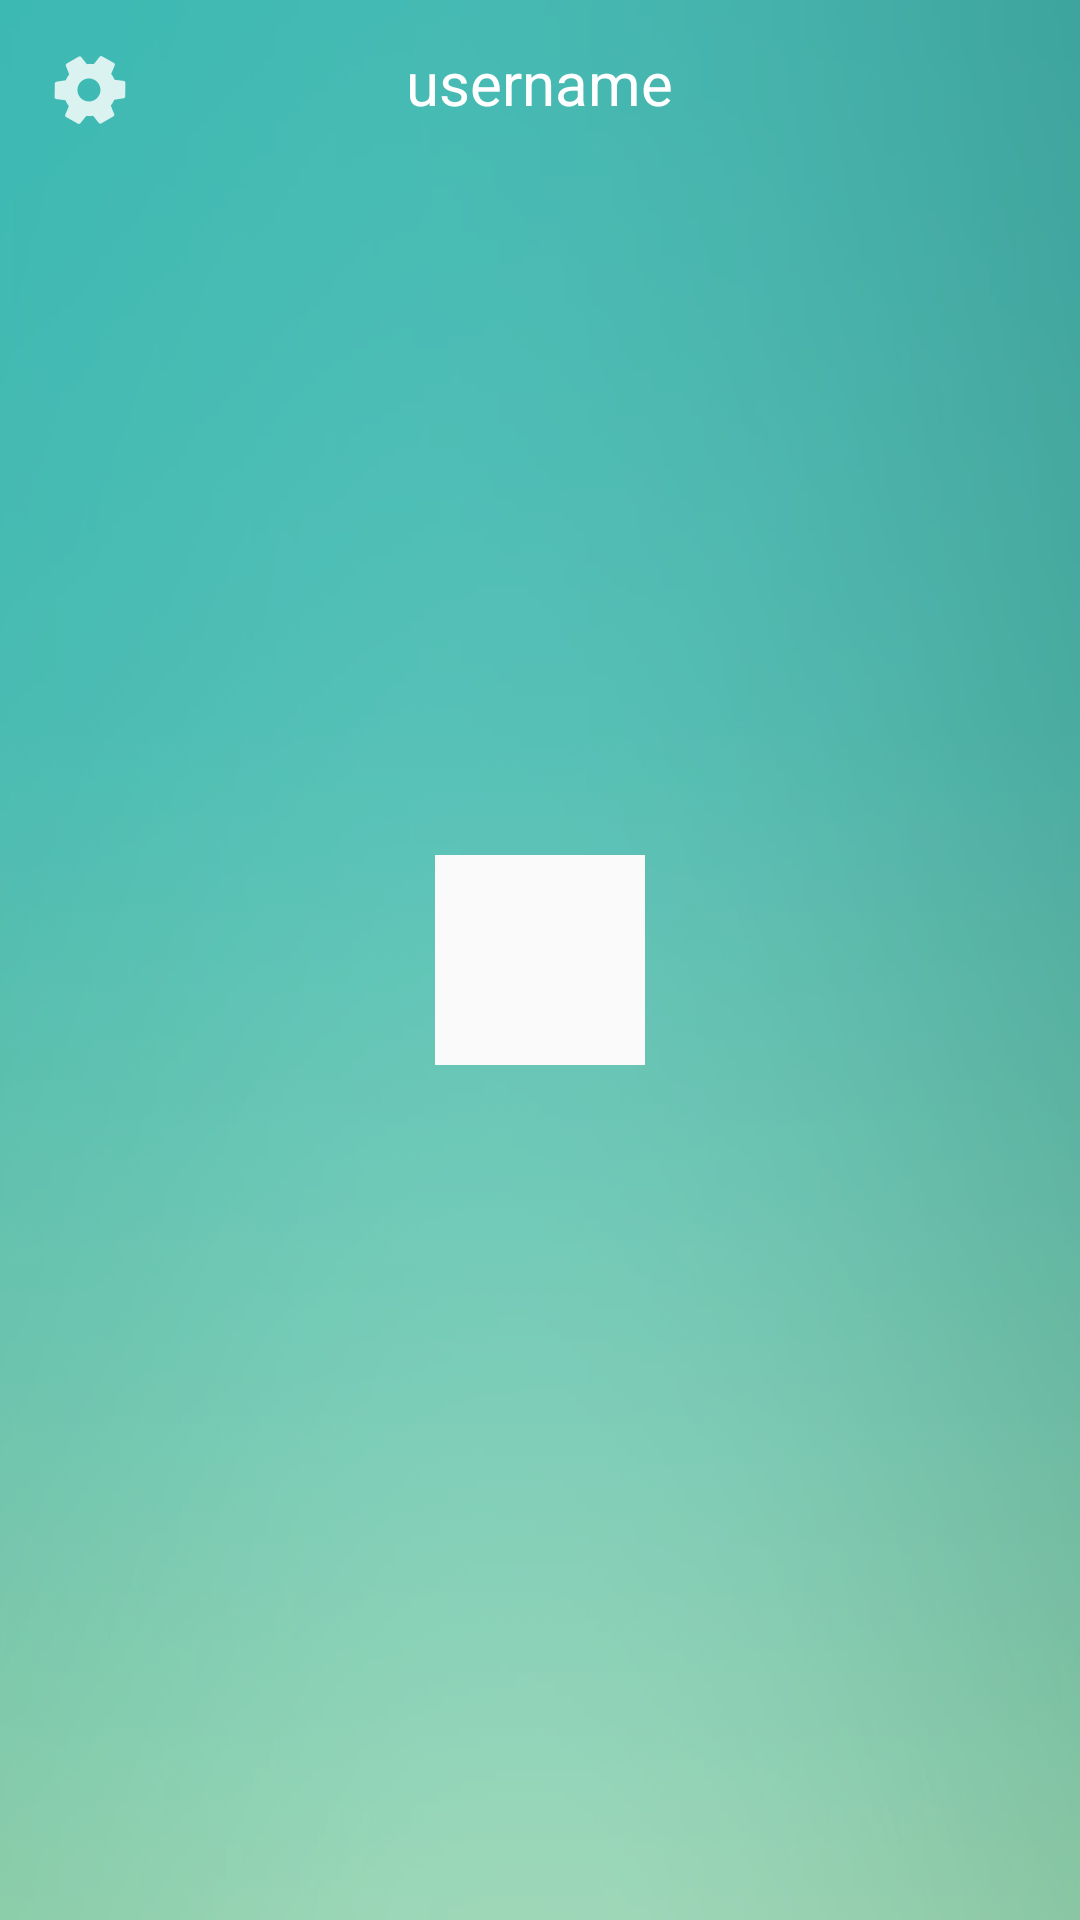

Where icons sit on this 1080×1920 app screen, as (x1, y1, x2, y2):
setting: (54, 56, 126, 124)
